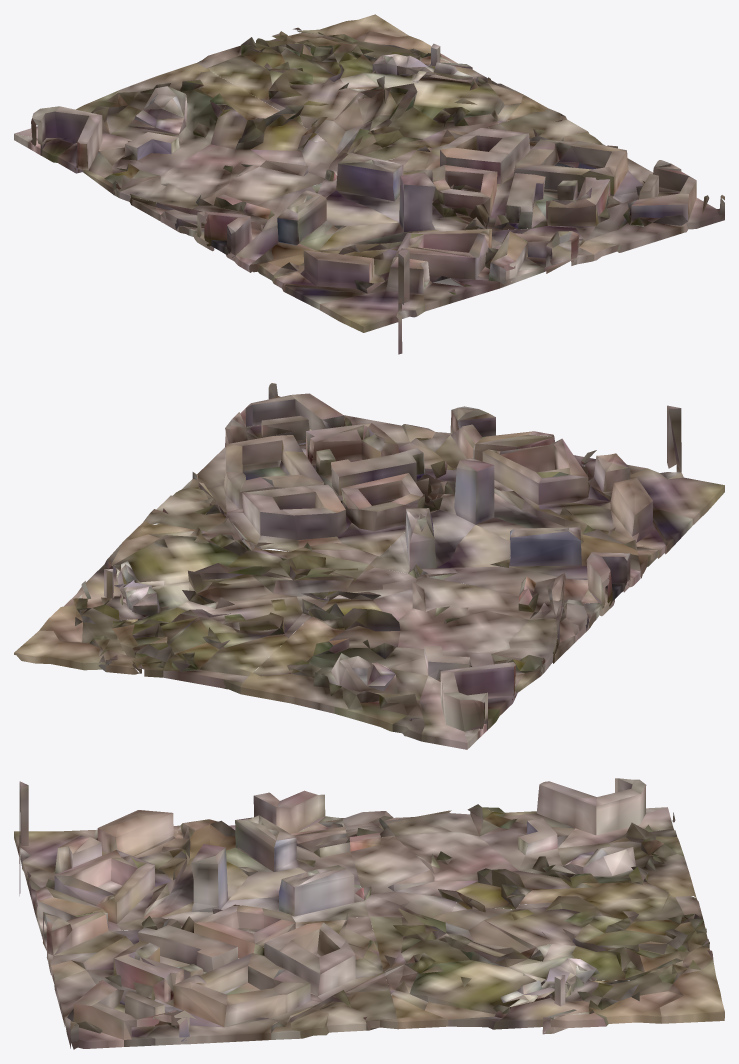
3 renders of one model, top to bottom at view 1: azimuth 30°, elevation 25°; view 2: azimuth 150°, elevation 25°; view 3: azimuth 270°, elevation 25°, orthographic. The views are drawn at different scales.
Visible parts, largest first — view 1: Mesh_0; view 2: Mesh_0; view 3: Mesh_0.
Boxes of the visible parts, x1,y1,x2,y2 form: Mesh_0: (14,14,724,354); Mesh_0: (14,383,724,749); Mesh_0: (14,778,724,1049).
Size of the model in its own units: 533 by 116 by 659.
2 materials, 2 textured.
